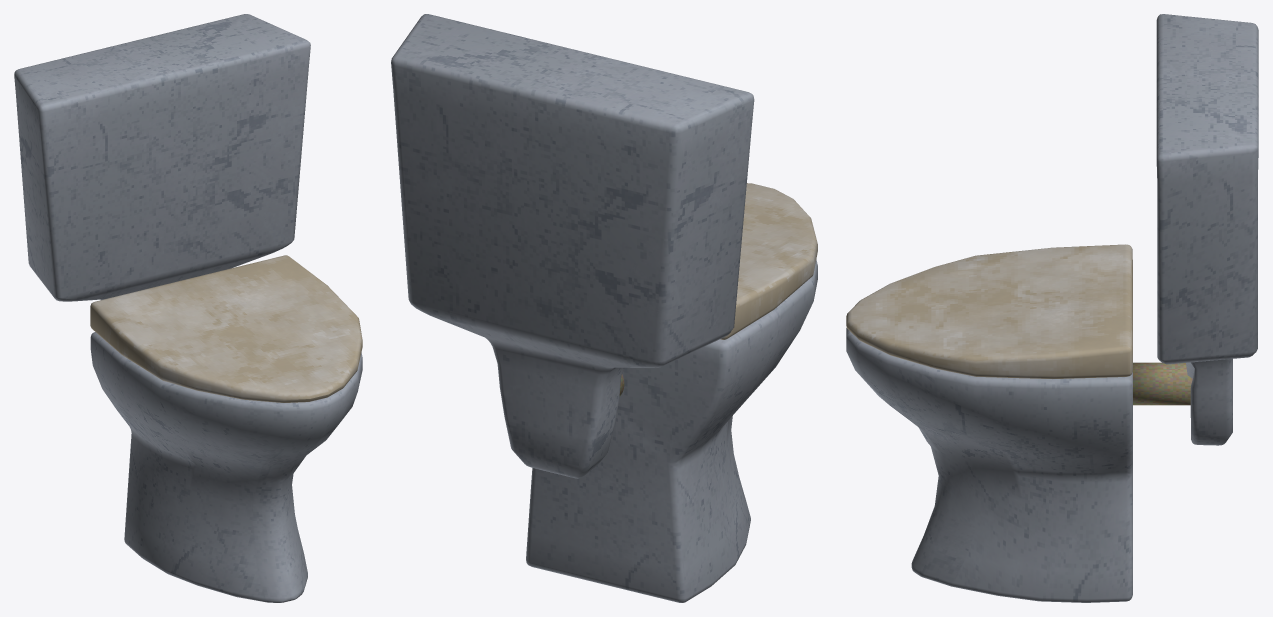
File: Toilet.fbx
3 views of the same model, side by side, from view 1: azimuth 30°, elevation 25°; view 2: azimuth 150°, elevation 25°; view 3: azimuth 270°, elevation 25° (orthographic). The views are drawn at different scales.
Parts seen in each view (by area): view 1: Toilet Seat, Toilet Lid; view 2: Toilet Seat, Toilet Lid; view 3: Toilet Seat, Toilet Lid, Cylinder.039.
Boxes of the visible parts, x1,y1,x2,y2 form: Toilet Seat: (14,14,362,602); Toilet Lid: (90,255,362,402); Toilet Seat: (391,14,817,602); Toilet Lid: (720,183,817,339); Toilet Seat: (846,14,1258,602); Toilet Lid: (846,244,1132,378); Cylinder.039: (1133,362,1192,405).
Size of the model in its own units: 34.36 by 54 by 41.61.
1 material, 1 textured.
